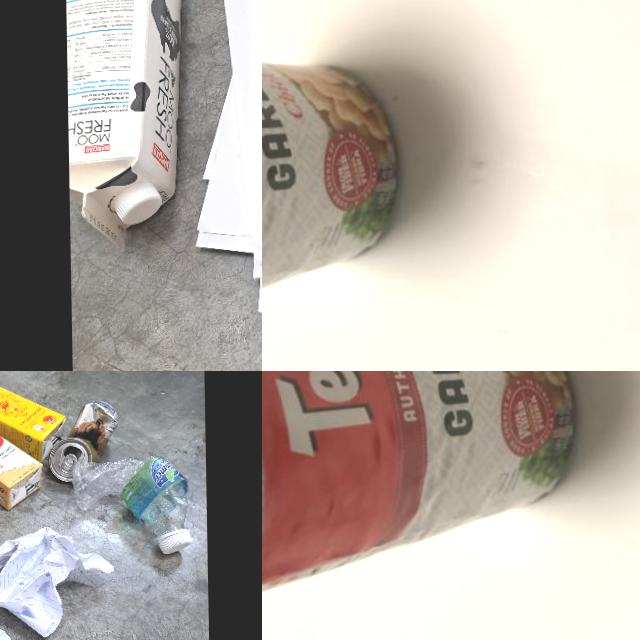aba de lata: (58, 451, 80, 479)
caixinha: (64, 0, 191, 251), (0, 377, 65, 458), (0, 410, 40, 508), (113, 183, 162, 225)
garrafa plástica: (72, 449, 192, 557)
lata: (262, 371, 575, 610), (262, 36, 398, 364), (50, 394, 120, 486)
papel: (190, 0, 262, 329), (0, 526, 115, 638)
tampa plástica: (156, 526, 196, 553)
